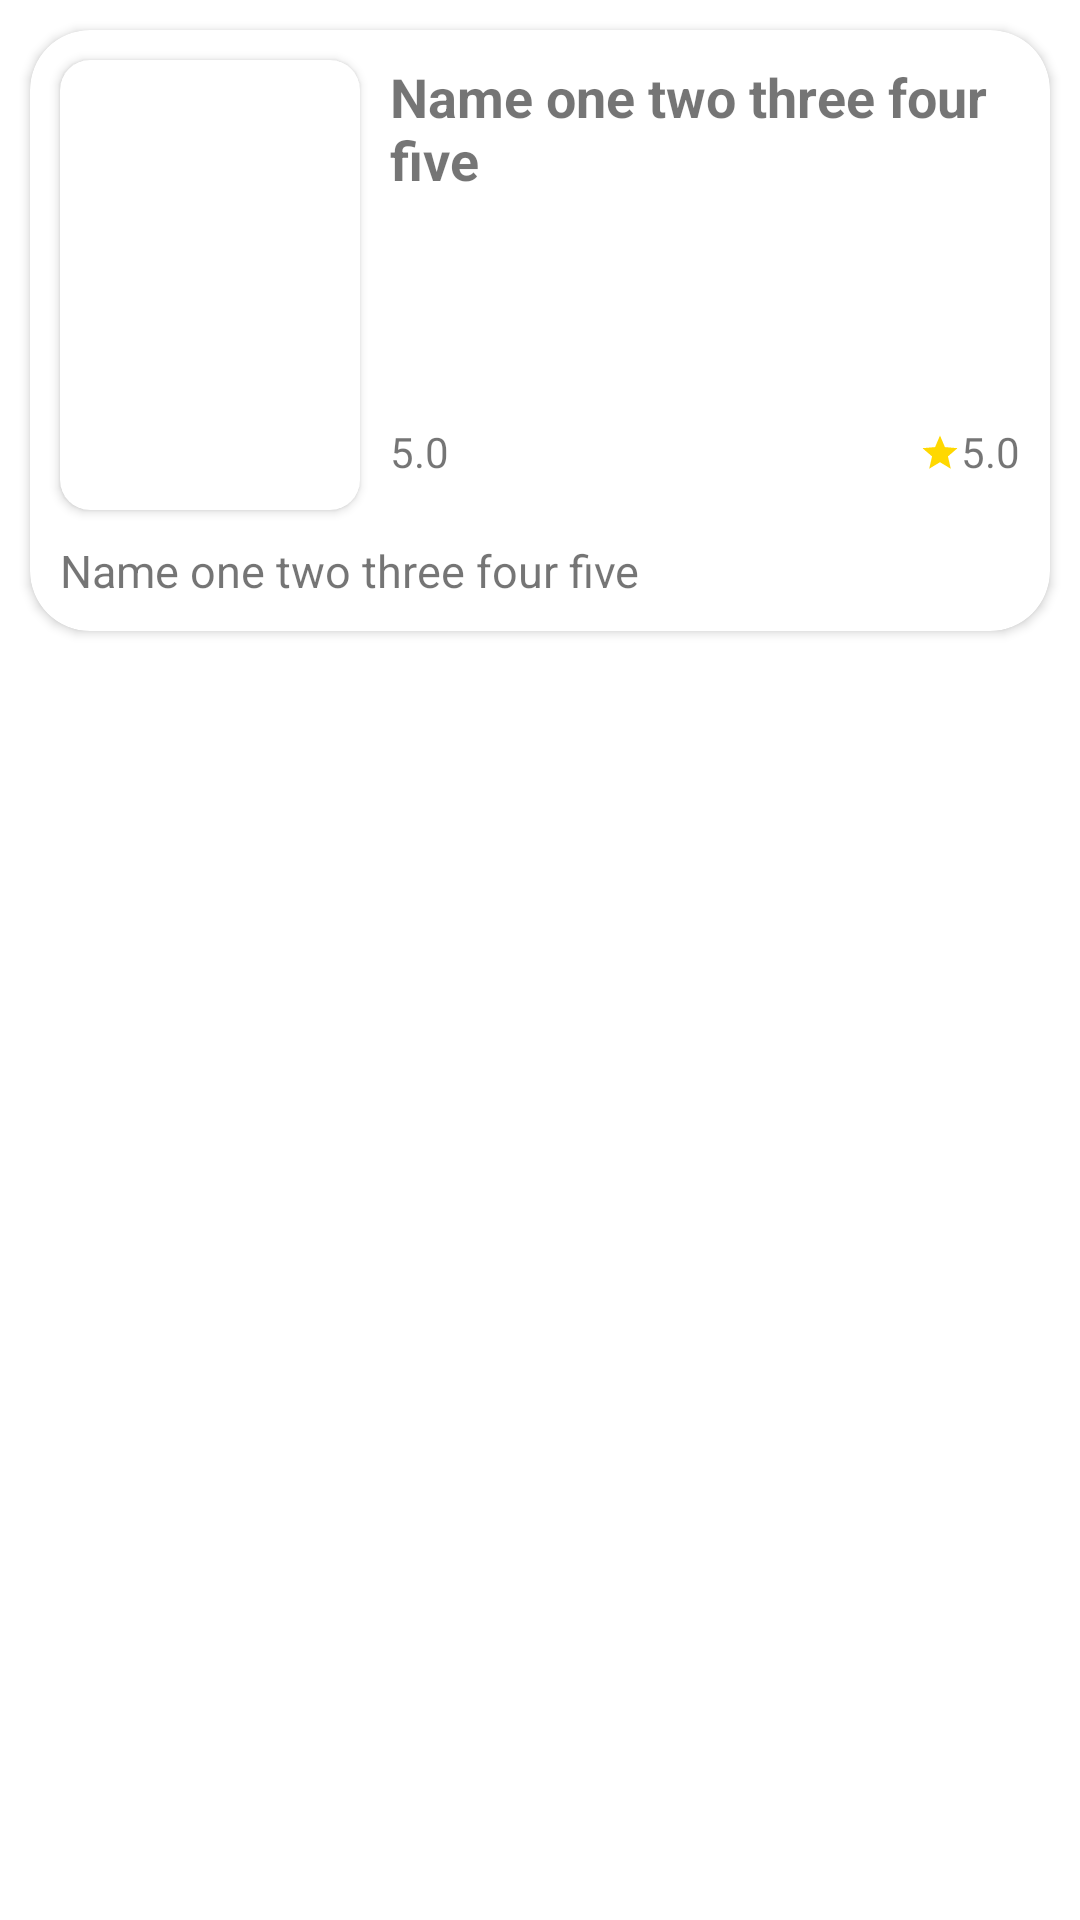

Named icons in this screenshot (1080x1920) and their centers, point (x, y):
Movie Rating: point (940, 452)
